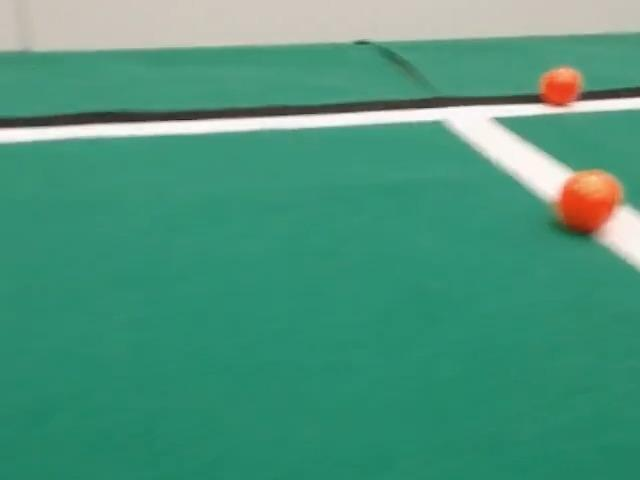Ball: (553, 170, 623, 233), (539, 67, 582, 105)
